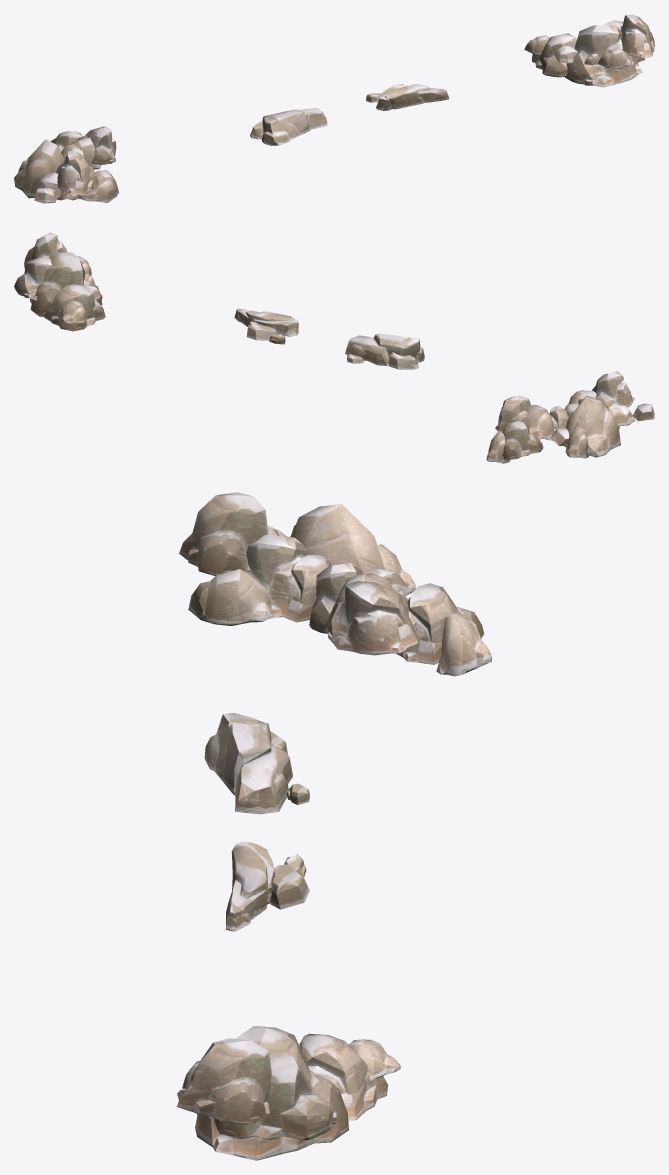
The model's file is pref_sm_beach_bk_winter_pointmol_rock_D01_lv1.fbx.
3 views of the same model, one above another, from view 1: azimuth 30°, elevation 25°; view 2: azimuth 150°, elevation 25°; view 3: azimuth 270°, elevation 25° (orthographic). The views are drawn at different scales.
Parts seen in each view (by area): view 1: pref_sm_beach_bk_winter_pointmol_rock_D01_lv1; view 2: pref_sm_beach_bk_winter_pointmol_rock_D01_lv1; view 3: pref_sm_beach_bk_winter_pointmol_rock_D01_lv1.
Boxes of the visible parts, bbox=[...] form: pref_sm_beach_bk_winter_pointmol_rock_D01_lv1: bbox=[14, 14, 654, 203]; pref_sm_beach_bk_winter_pointmol_rock_D01_lv1: bbox=[14, 232, 654, 463]; pref_sm_beach_bk_winter_pointmol_rock_D01_lv1: bbox=[177, 492, 491, 1160].
Bounding box in the file's own units: 53.38 × 4.98 × 11.75.
